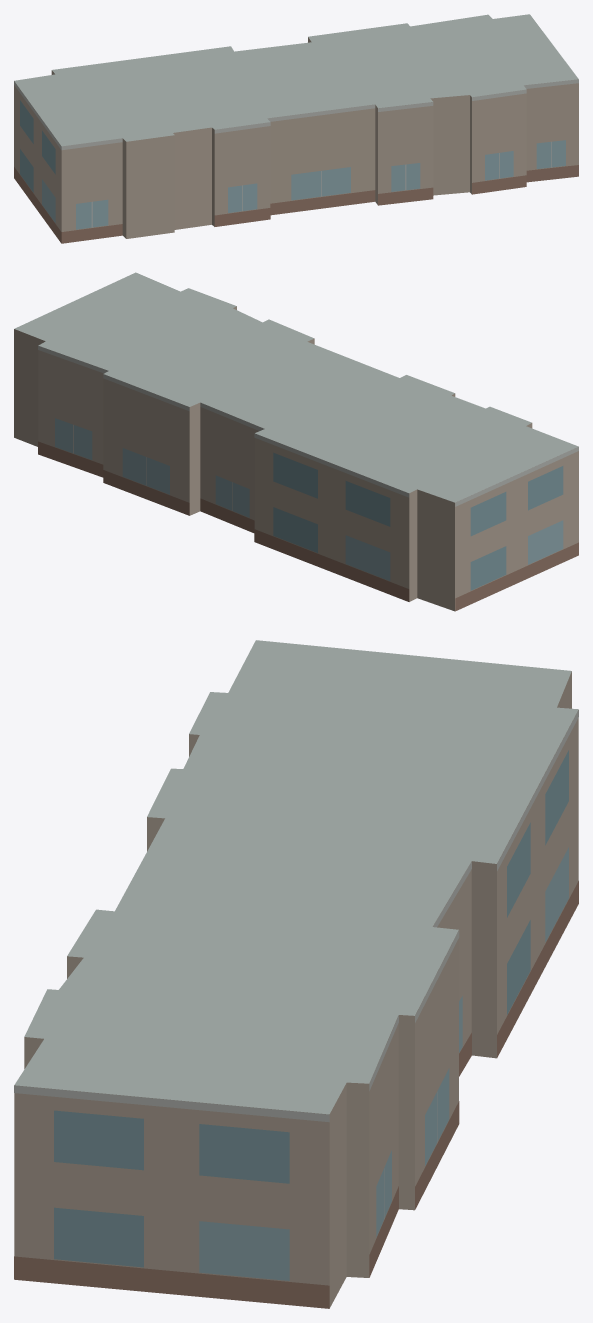
File: survey-upis-32752699.glb
3 views of the same model, one above another, from view 1: azimuth 30°, elevation 25°; view 2: azimuth 150°, elevation 25°; view 3: azimuth 270°, elevation 25° (orthographic). The views are drawn at different scales.
Visible parts, largest first — view 1: survey-upis-32752699.tmp; view 2: survey-upis-32752699.tmp; view 3: survey-upis-32752699.tmp.
Boxes of the visible parts, box(x1,y1,x2,y2) form: survey-upis-32752699.tmp: box(14, 14, 578, 243); survey-upis-32752699.tmp: box(14, 272, 578, 611); survey-upis-32752699.tmp: box(14, 640, 578, 1308).
Bounding box in the file's own units: 31.94 × 6.1 × 16.07.
